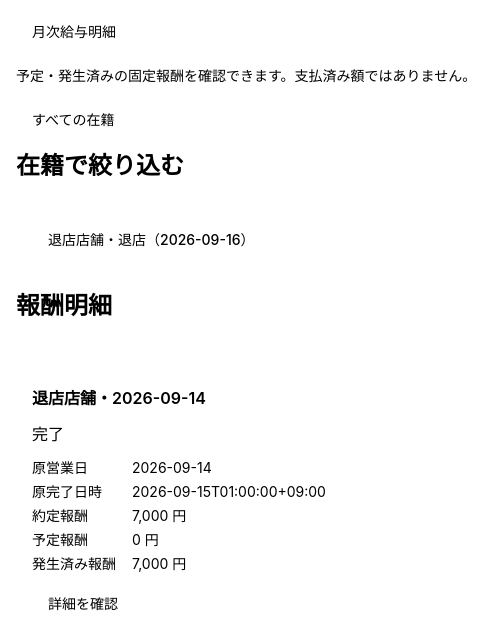
Test: distinguishes missing details from a failed request
This screenshot has width=485, height=639.
Click the button "詳細を確認".
click(83, 604)  # box [32, 586, 134, 622]
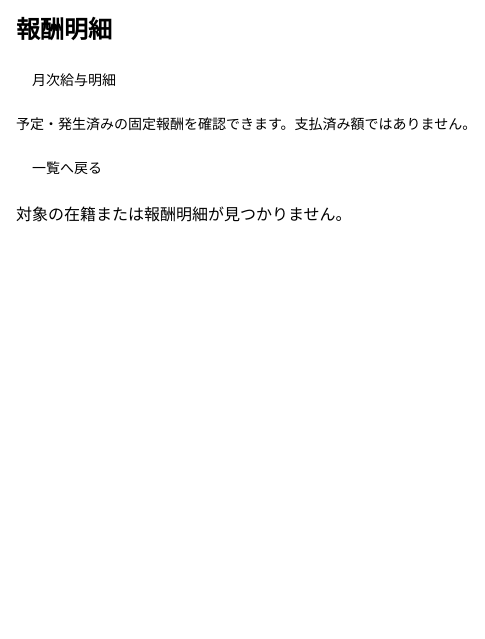
Now the text "対象の在籍または報酬明細が見つかりません。" is shown, box [16, 204, 352, 224]
